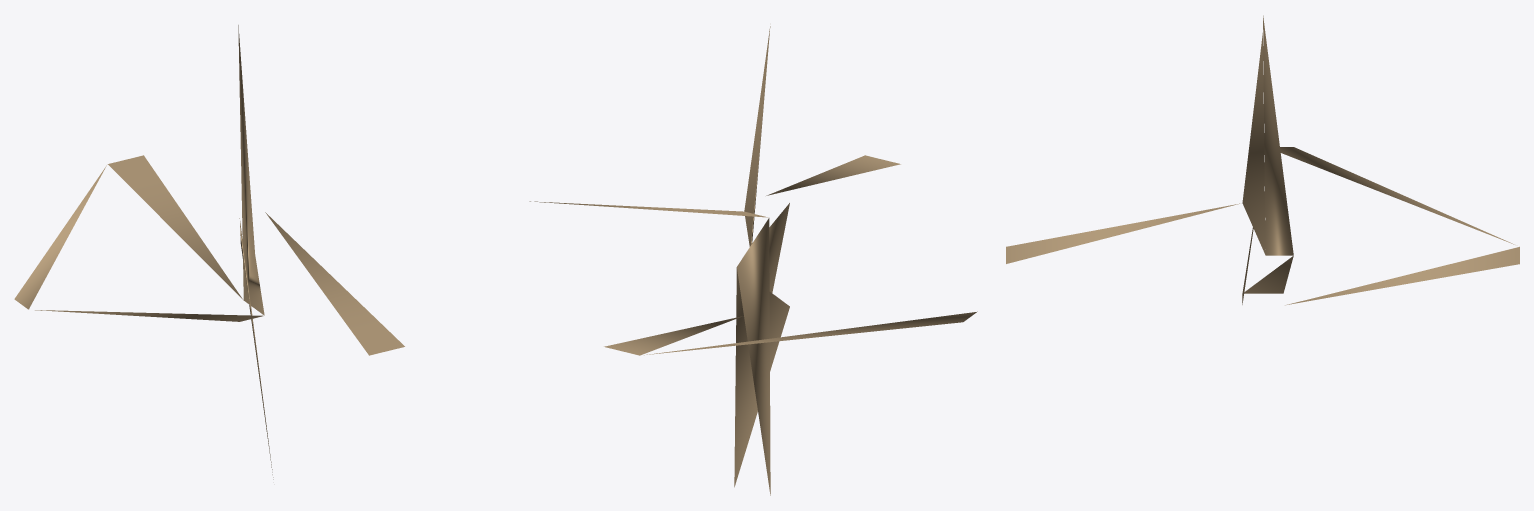
The model's file is equip_legs_leather_chaps.glb.
The picture shows the model from 3 angles, left to right: view 1: azimuth 30°, elevation 25°; view 2: azimuth 150°, elevation 25°; view 3: azimuth 270°, elevation 25°; orthographic projection.
Parts seen in each view (by area): view 1: equip_legs_leather_chaps; view 2: equip_legs_leather_chaps; view 3: equip_legs_leather_chaps.
Boxes of the visible parts, x1,y1,x2,y2 form: equip_legs_leather_chaps: (14,25,404,479); equip_legs_leather_chaps: (529,26,977,495); equip_legs_leather_chaps: (1006,15,1519,305).
Size of the model in its own units: 2 by 2 by 2.
